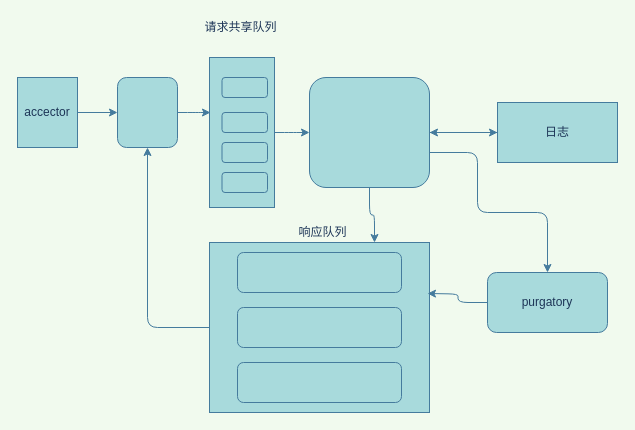
Image size: 635x430. Some labels were removed from this diagram. The shapes that lost their labels are listed below. From the top down, each one's box as (x1, y1, x2, y2) in pixels, then its label:
(116, 76, 178, 148): 网络
(308, 76, 430, 188): io线程池
